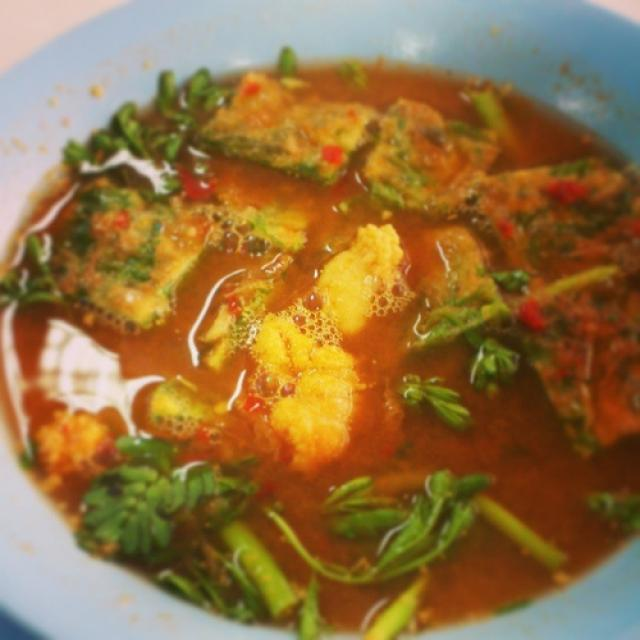汤锅炖物: (4, 25, 634, 616)
